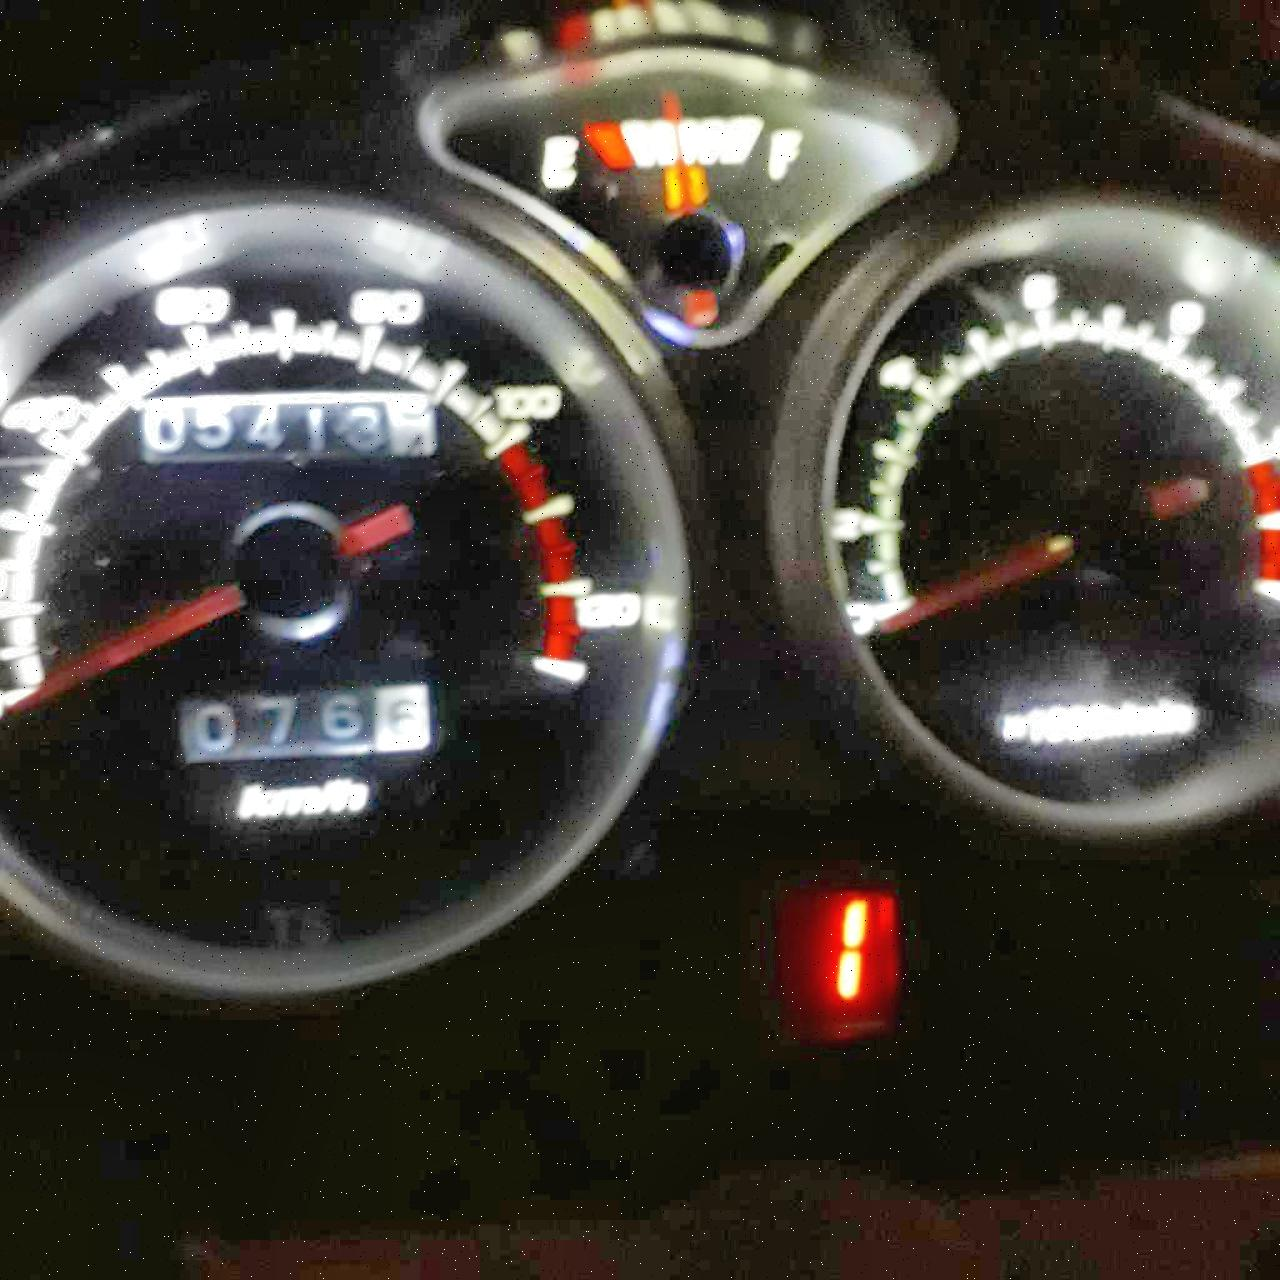0: (142, 399, 186, 452)
1: (305, 406, 325, 451)
3: (343, 402, 381, 452)
4: (244, 399, 285, 451), (399, 431, 429, 463)
5: (190, 396, 236, 449)
odometer: (129, 380, 443, 469)
